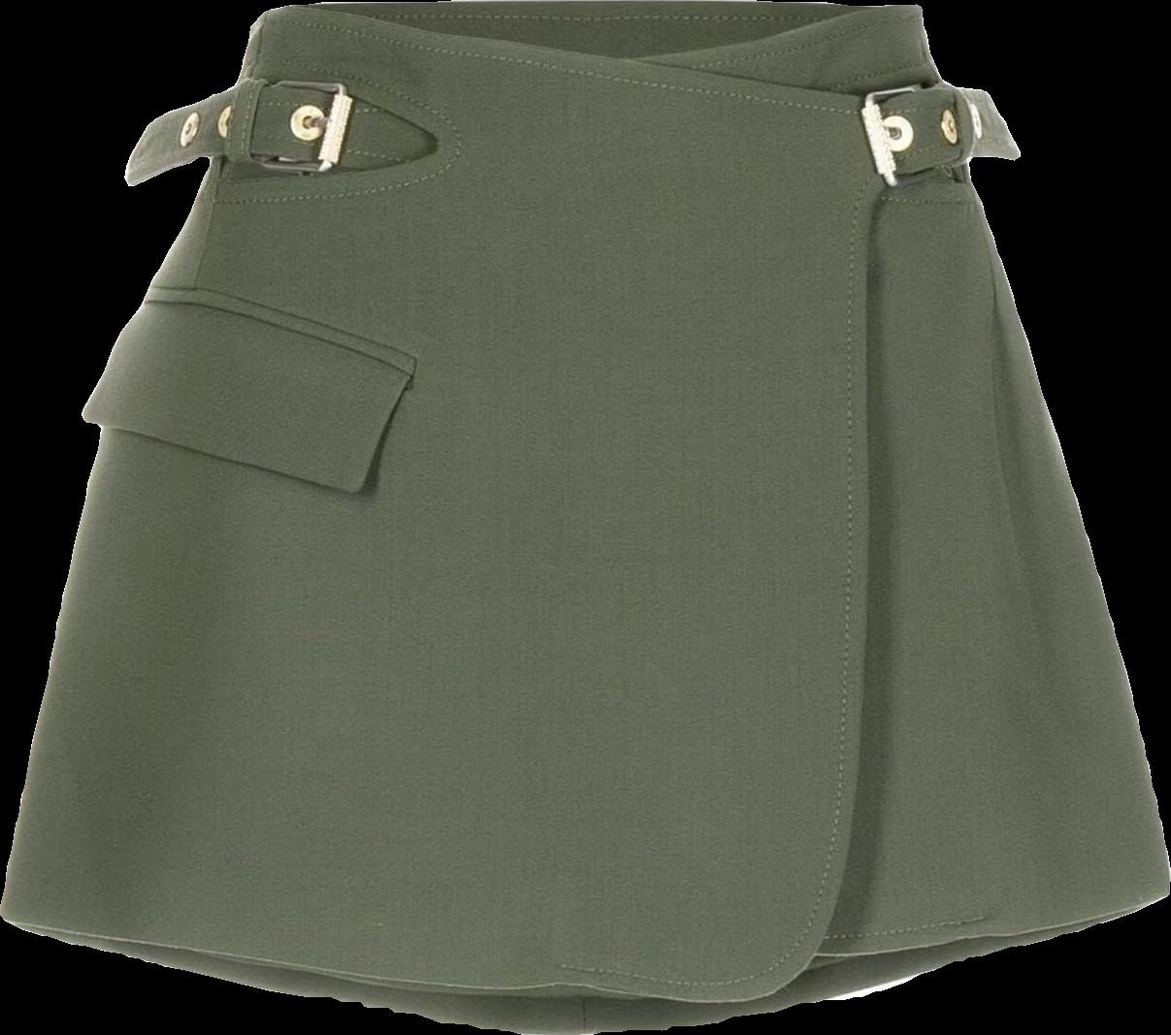Hemline: (1, 161, 974, 1006), (814, 888, 1170, 961)
Waistline: (251, 0, 912, 65)
